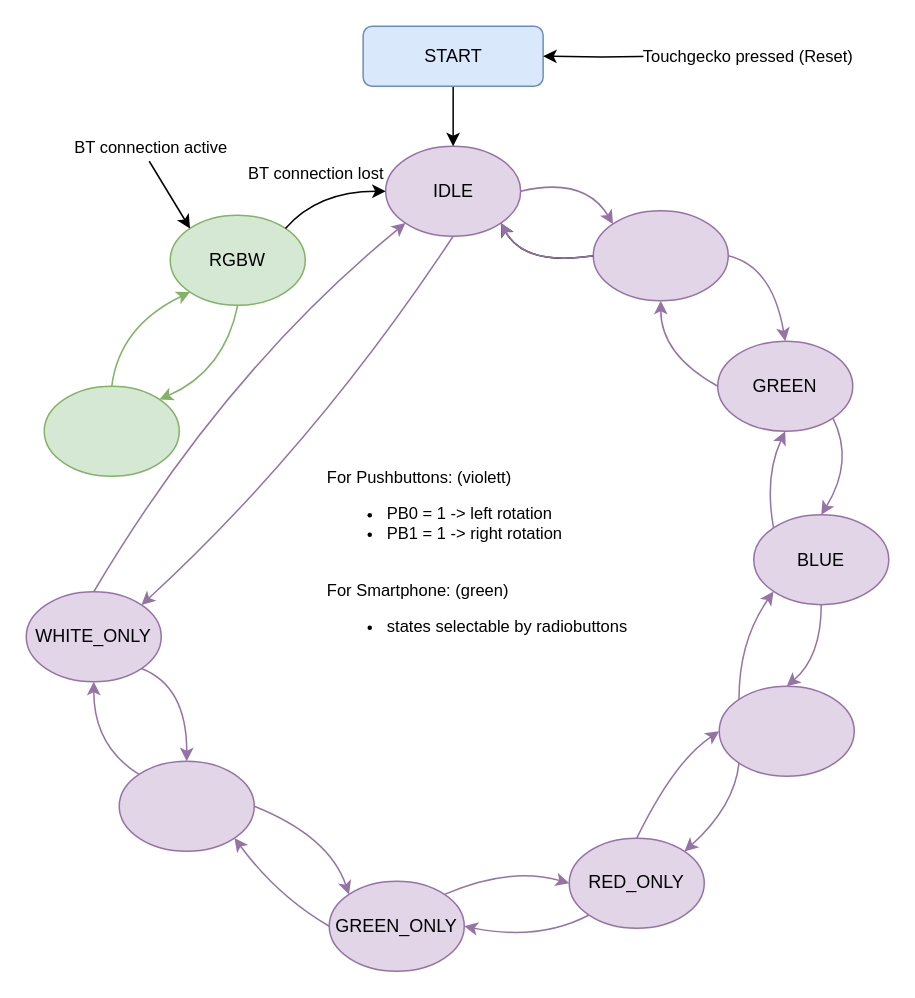
Some shapes in this 915 by 998 pixel diagram are drawn without their labels. Each missing label, with the centre of its shape:
BLUE_ONLY: the point at 186,805
RED: the point at 660,255
TEMPERATURE: the point at 111,430
WHITE: the point at 786,730
